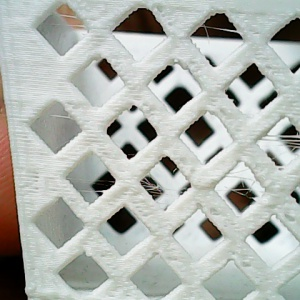3dpstringing: (219, 171, 261, 205), (65, 177, 118, 202), (139, 179, 187, 205), (262, 126, 298, 158), (201, 23, 244, 48), (58, 11, 92, 32), (44, 108, 77, 124)
